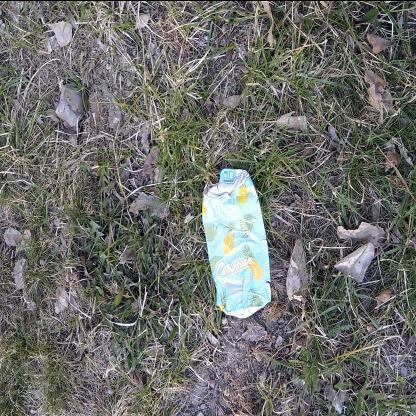metal: (203, 167, 273, 321)
